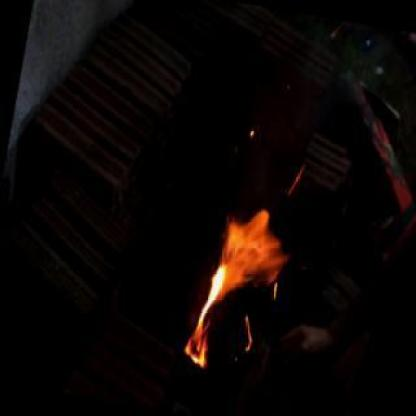Fire: (179, 189, 284, 379)
